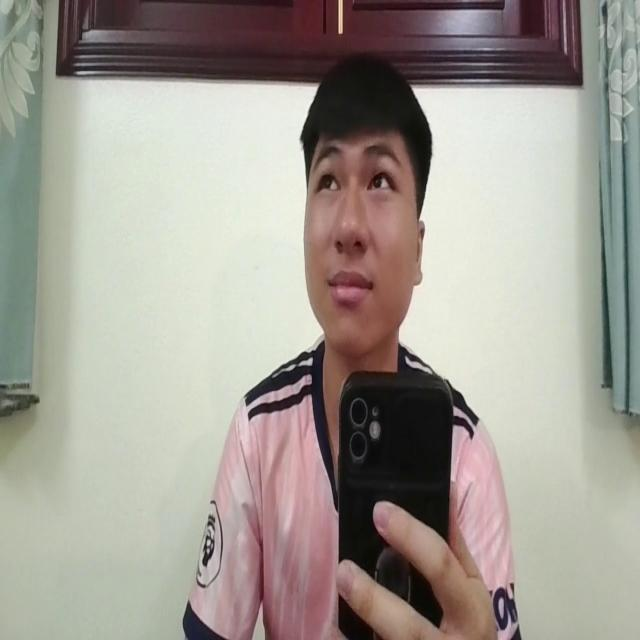phone: (336, 360, 452, 640)
student: (178, 59, 515, 640)
